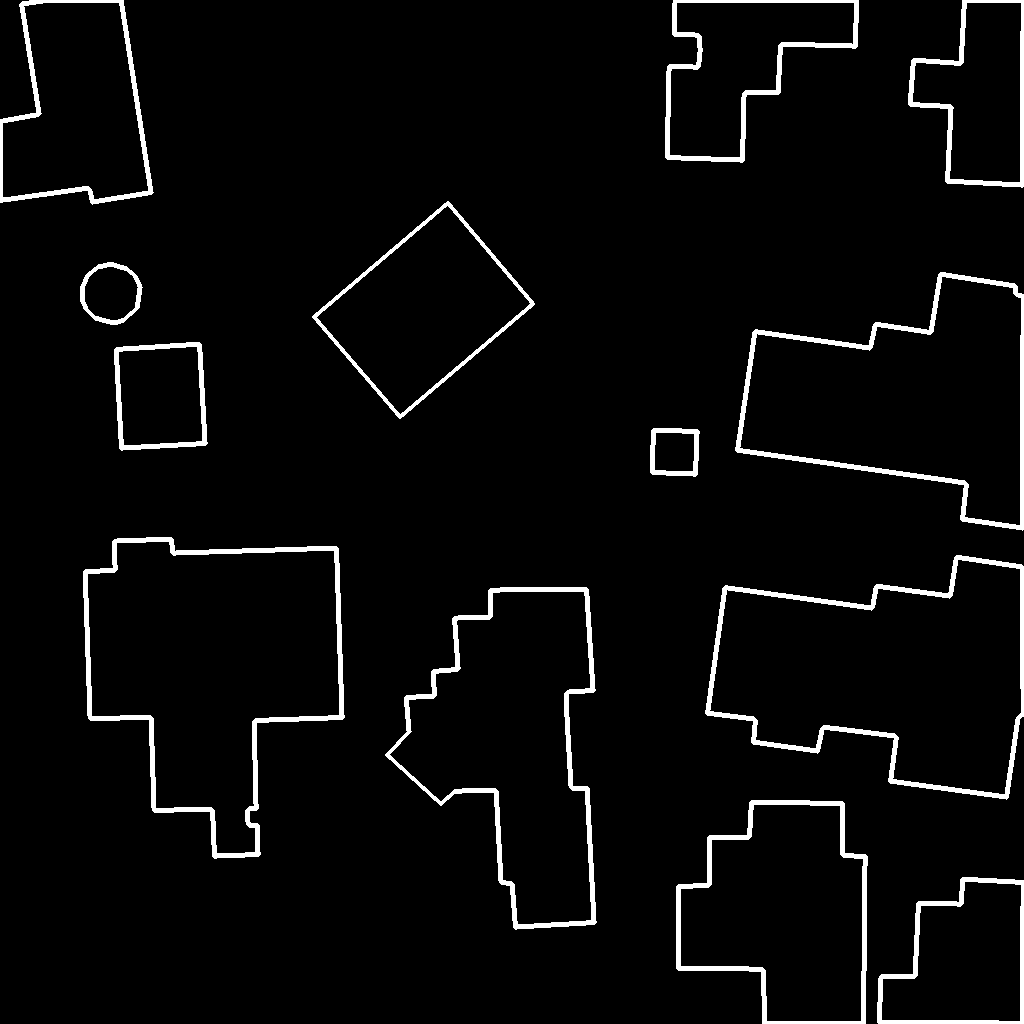building: (85, 539, 343, 857), (707, 557, 1024, 798), (737, 274, 1024, 529), (387, 589, 595, 928), (314, 203, 534, 418), (678, 802, 866, 1024), (0, 0, 152, 203), (667, 0, 858, 161), (910, 0, 1024, 186), (879, 879, 1024, 1024), (116, 344, 206, 449), (82, 264, 141, 324), (652, 430, 698, 475)
